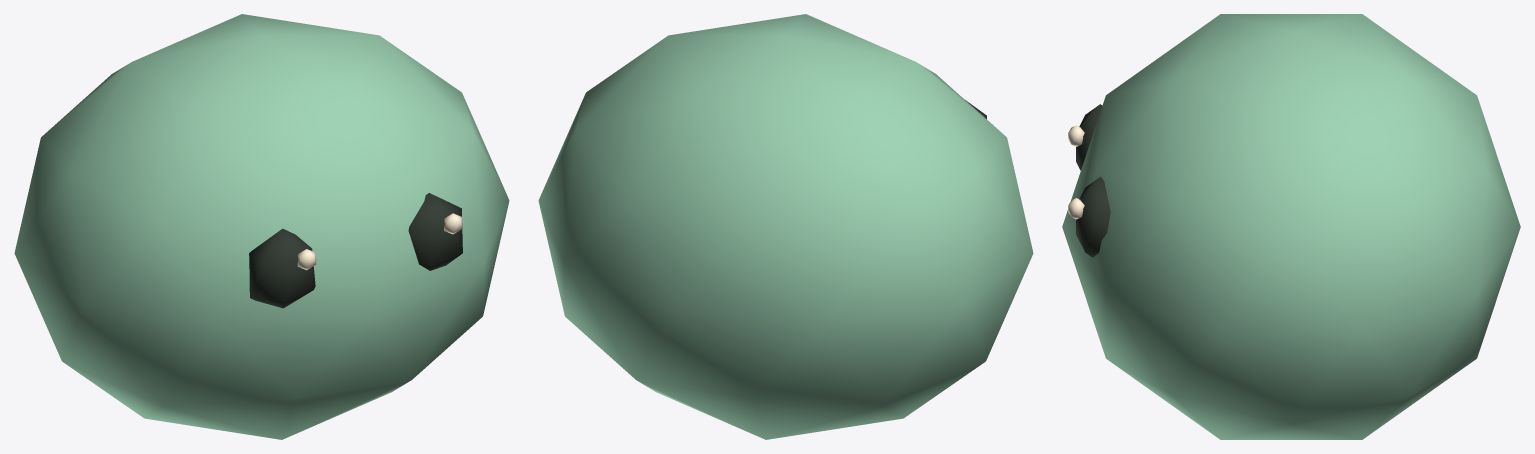
The model's file is slime.glb.
3 views of the same model, side by side, from view 1: azimuth 30°, elevation 25°; view 2: azimuth 150°, elevation 25°; view 3: azimuth 270°, elevation 25° (orthographic).
Parts seen in each view (by area): view 1: Body, Eye, Eye.001; view 2: Body; view 3: Body, Eye.001, Eye.
Boxes of the visible parts, bbox=[...] form: Body: bbox=[14, 14, 509, 439]; Eye: bbox=[249, 228, 315, 308]; Eye.001: bbox=[408, 193, 462, 270]; Body: bbox=[538, 14, 1033, 439]; Body: bbox=[1062, 14, 1520, 439]; Eye.001: bbox=[1076, 177, 1110, 257]; Eye: bbox=[1076, 104, 1102, 170].
Size of the model in its own units: 1.05 by 0.9 by 0.96.
